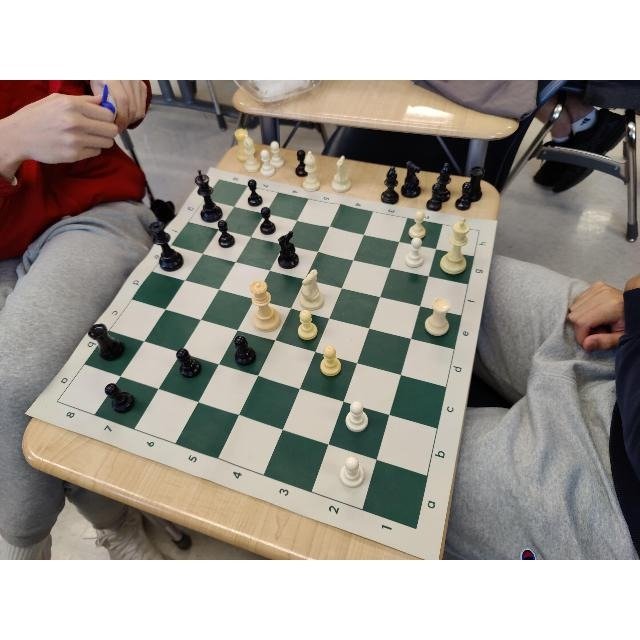black-king: (193, 170, 222, 222)
black-knight: (278, 230, 299, 268)
black-pawn: (106, 382, 136, 414), (176, 347, 202, 379), (232, 334, 256, 366), (218, 220, 234, 248), (260, 206, 276, 234), (247, 179, 263, 207)
black-queen: (149, 221, 183, 273)
black-rook: (87, 323, 125, 361)
white-bishop: (25, 166, 498, 560)
white-king: (440, 217, 470, 274)
white-knight: (299, 269, 325, 311)
white-pawn: (340, 455, 365, 491), (345, 400, 369, 432), (297, 309, 319, 341), (405, 237, 425, 268), (320, 347, 342, 375), (408, 212, 425, 240)
white-queen: (249, 280, 281, 332)
white-rook: (424, 298, 452, 338)
